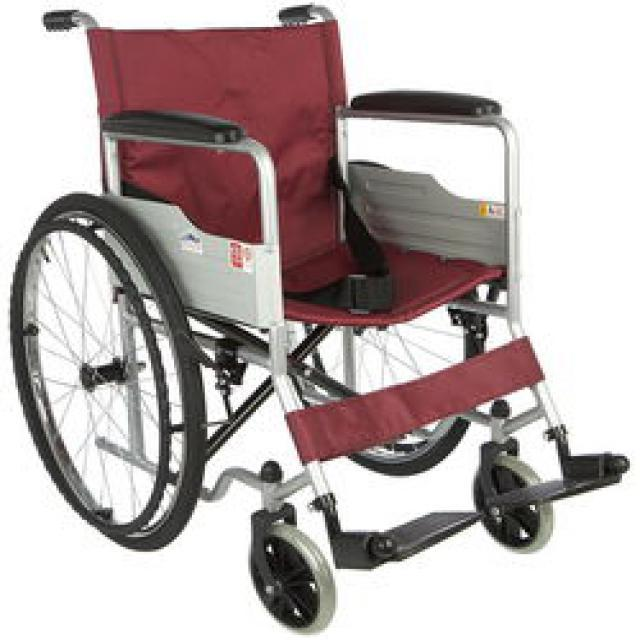wheelchair: (10, 0, 638, 638)
